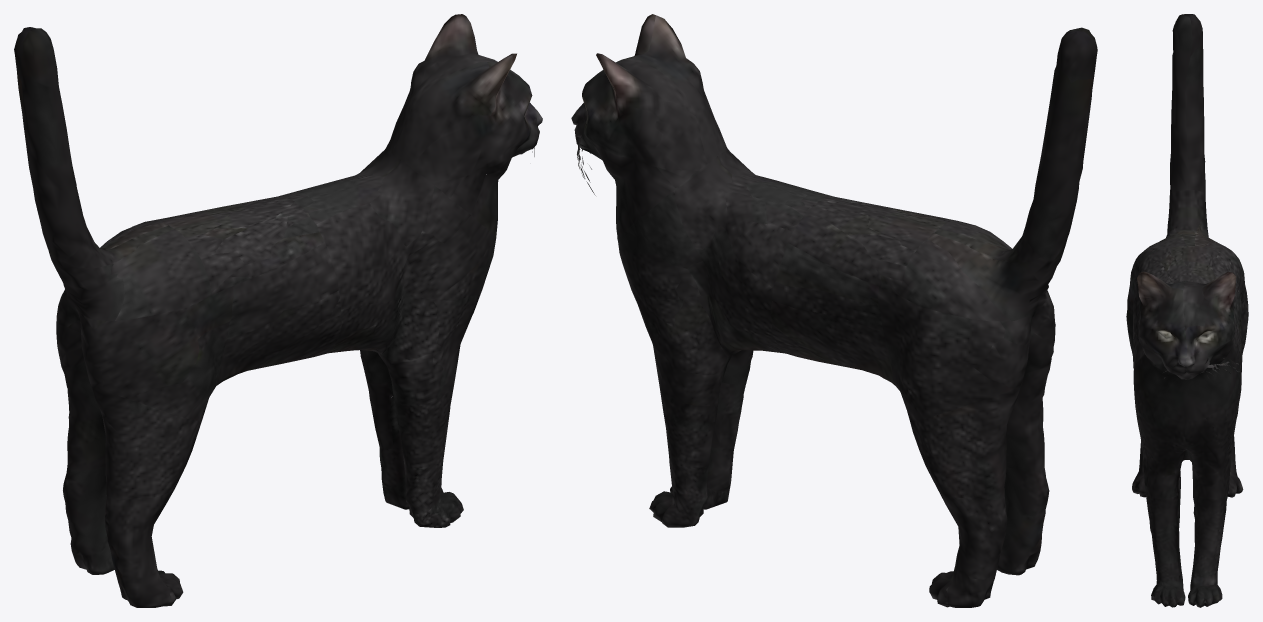
File: KENCHAN-lo.glb
3 views of the same model, side by side, from view 1: azimuth 30°, elevation 25°; view 2: azimuth 150°, elevation 25°; view 3: azimuth 270°, elevation 25° (orthographic). The views are drawn at different scales.
Parts seen in each view (by area): view 1: tripo_node_56474adf-d663-4ae4-a575-79d68b3bb48f; view 2: tripo_node_56474adf-d663-4ae4-a575-79d68b3bb48f; view 3: tripo_node_56474adf-d663-4ae4-a575-79d68b3bb48f.
Part boxes in pixels (left/top/right/bottom): tripo_node_56474adf-d663-4ae4-a575-79d68b3bb48f: left=14, top=14, right=542, bottom=607; tripo_node_56474adf-d663-4ae4-a575-79d68b3bb48f: left=571, top=14, right=1097, bottom=607; tripo_node_56474adf-d663-4ae4-a575-79d68b3bb48f: left=1126, top=14, right=1248, bottom=607.
Size of the model in its own units: 0.9468 by 0.9998 by 0.251.
1 material, 1 textured.
